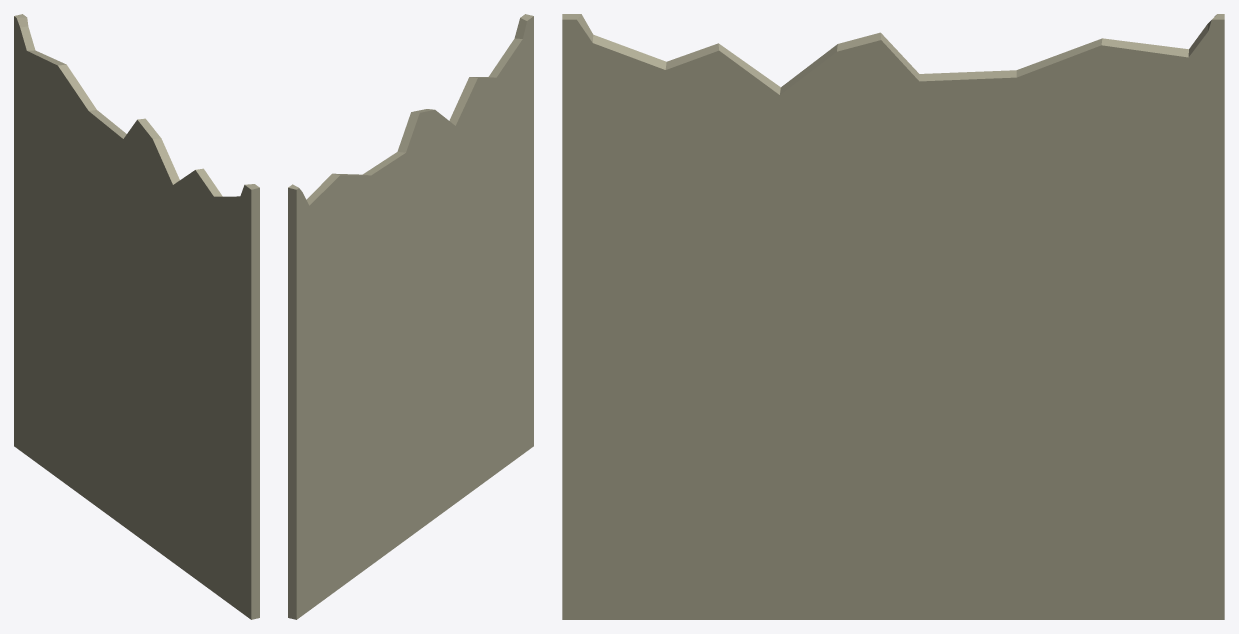
The model's file is WallChipped.fbx.
The picture shows the model from 3 angles, left to right: view 1: azimuth 30°, elevation 25°; view 2: azimuth 150°, elevation 25°; view 3: azimuth 270°, elevation 25°; orthographic projection. The views are drawn at different scales.
Visible parts, largest first — view 1: WallChipped; view 2: WallChipped; view 3: WallChipped.
Boxes of the visible parts, bbox=[...] form: WallChipped: bbox=[14, 14, 259, 619]; WallChipped: bbox=[288, 14, 533, 619]; WallChipped: bbox=[562, 14, 1224, 619].
Size of the model in its own units: 0.25 by 12 by 12.
